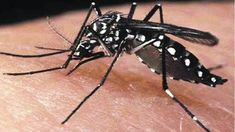dengue_mosquito: (1, 3, 229, 103)
